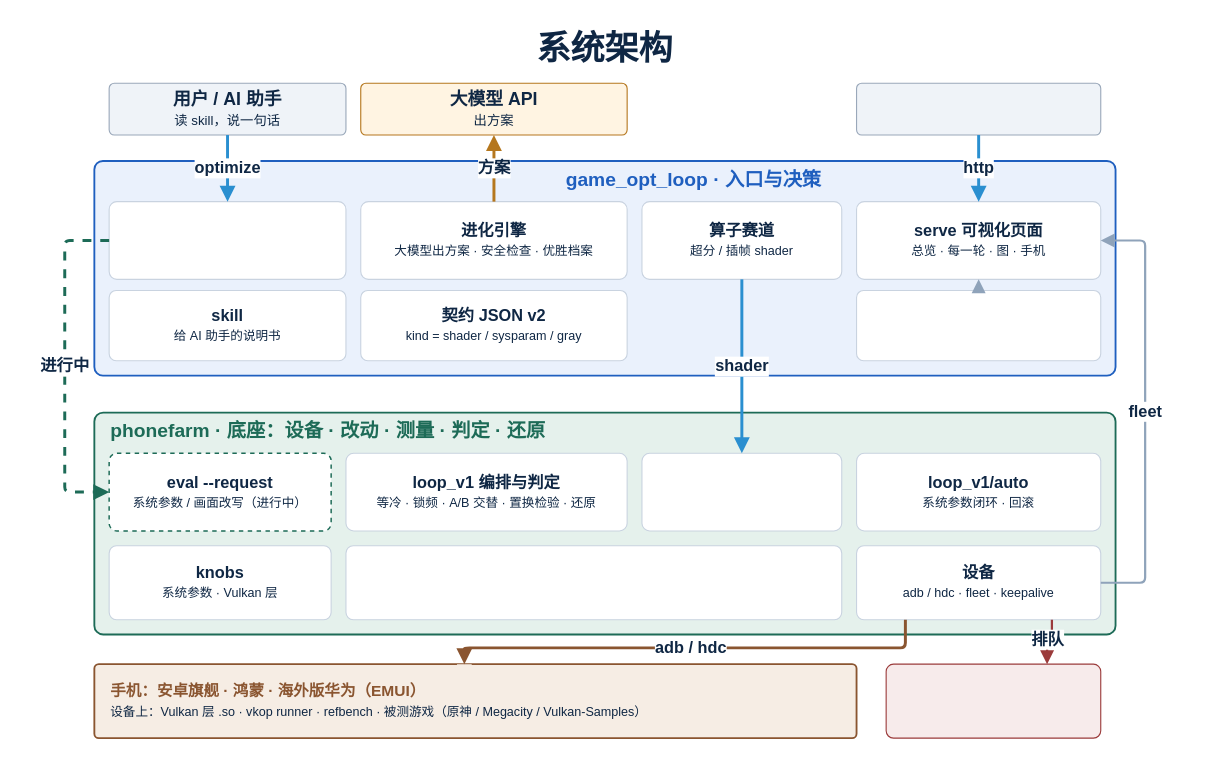
The diagram is 1209 pixels wide and 765 high, and some of its shapes have lost their labels. Each missing label, with the centre of its shape:
devlock 设备锁：心跳 + 排队: [993,700]
gpu-op 算子真机标尺 · 画质补测: [741,491]
optimize 总命令 摸底 → 开哪几路 → 出方案 → 总报告: [227,240]
runs / evidence 每一轮的条件、数据、结论: [978,325]
测量 perf（sysfs / HiSmartPerf · 停充）· ftrace 解析 · 归因: [593,582]
浏览器 看结果、看手机: [978,108]
